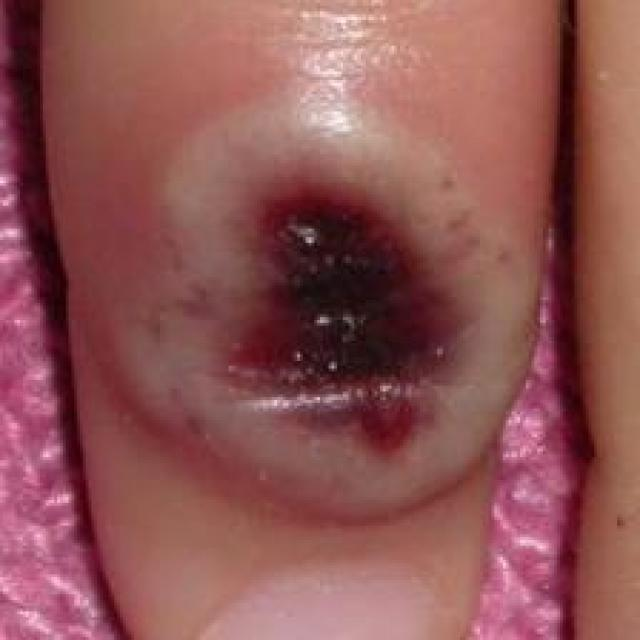monkeypox: (69, 4, 553, 492)
